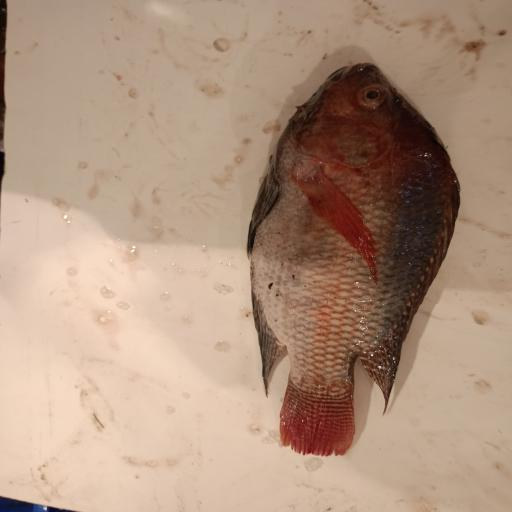Tilapia: (247, 63, 461, 457)
